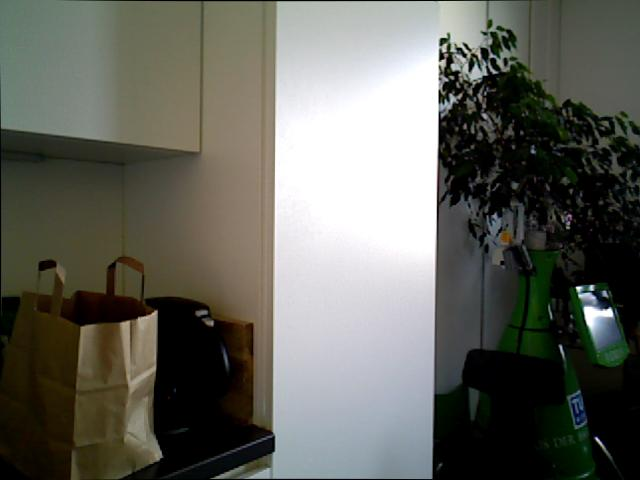carrot: (438, 14, 640, 310)
hot dog: (272, 0, 439, 479)
skateboard: (0, 255, 166, 480)
